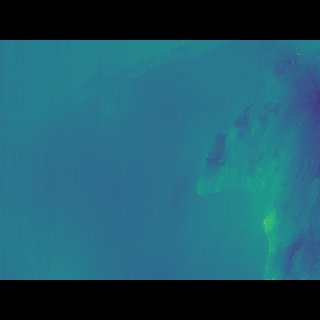Loch: (189, 72, 320, 249)
